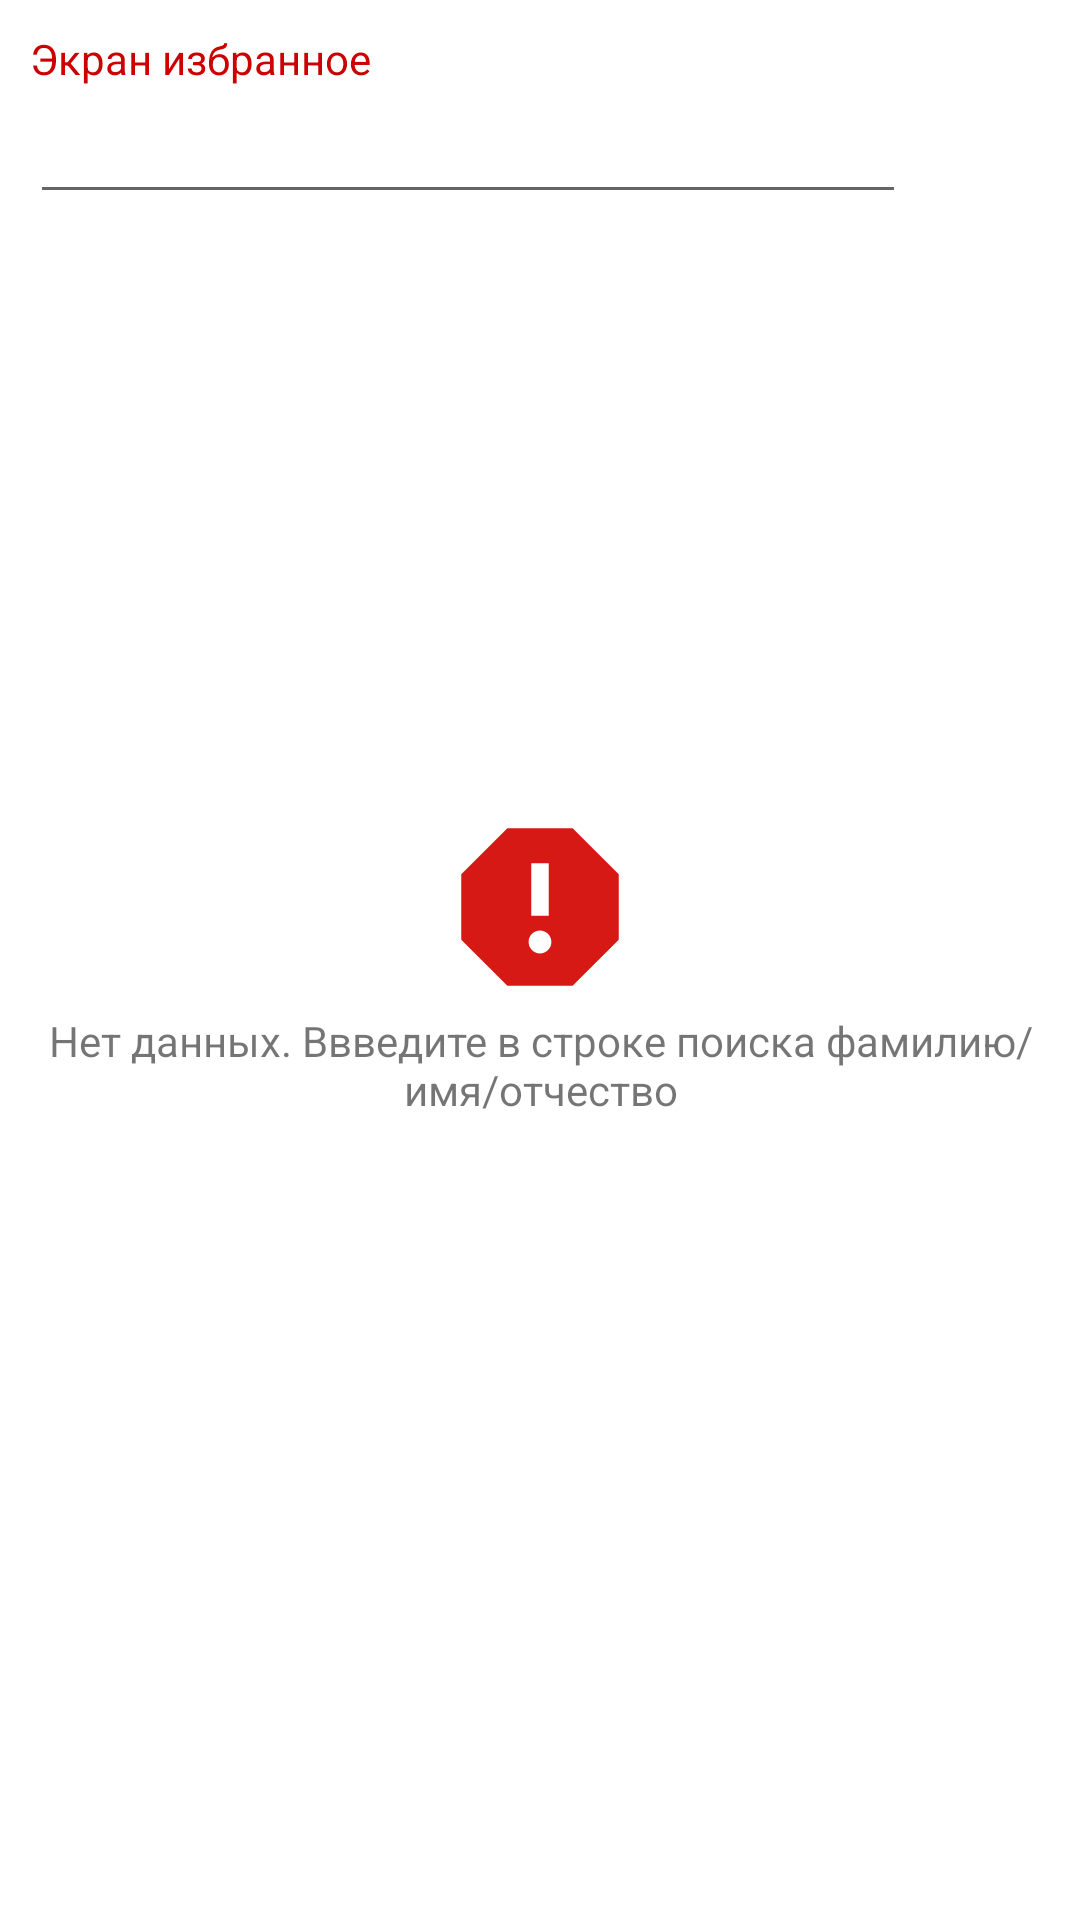

Named icons in this screenshot (1080 x 1920) and their bounding boxes, (x1, y1, x2, y2):
no data: (461, 828, 619, 986)
